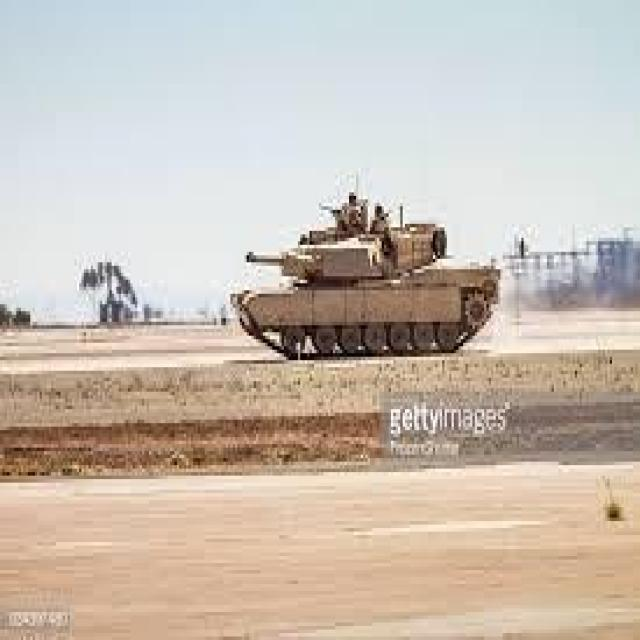Tanks: (185, 112, 511, 434)
